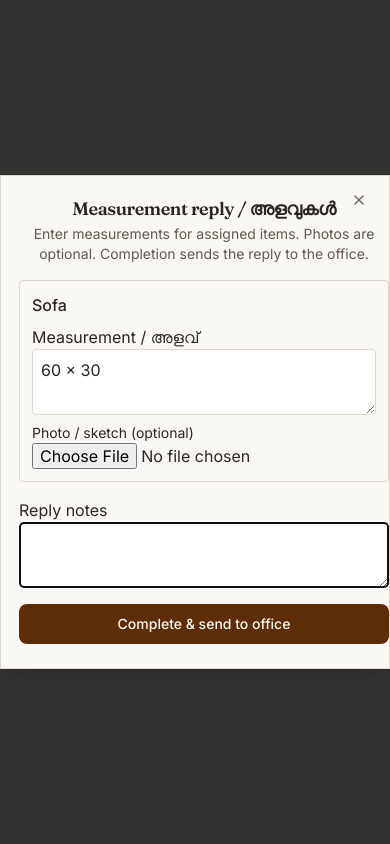
Measurement reply recovery › reuses an uploaded photo when completion fails and is retried
Earlier steps of the test are not shown.
Later steps or results of the test are not shown.
Expected: the text "Sofa" is shown, [32,295,67,315]
Click the button "Complete & send to office".
click(204, 624)  # box [19,604,389,644]
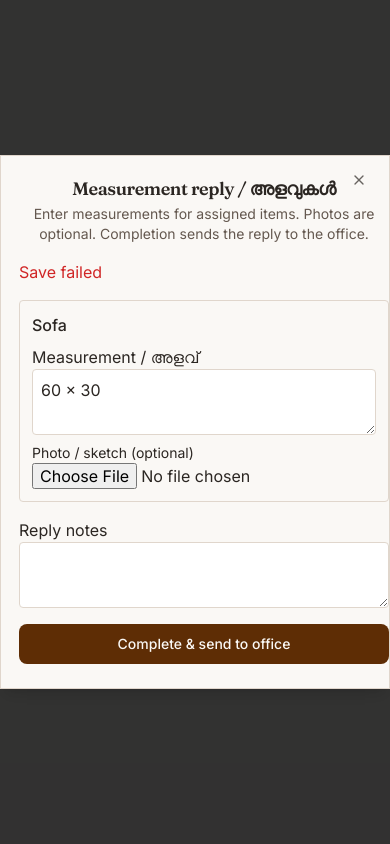
Now the text "Save failed" is shown, box [19,262,102,282]
